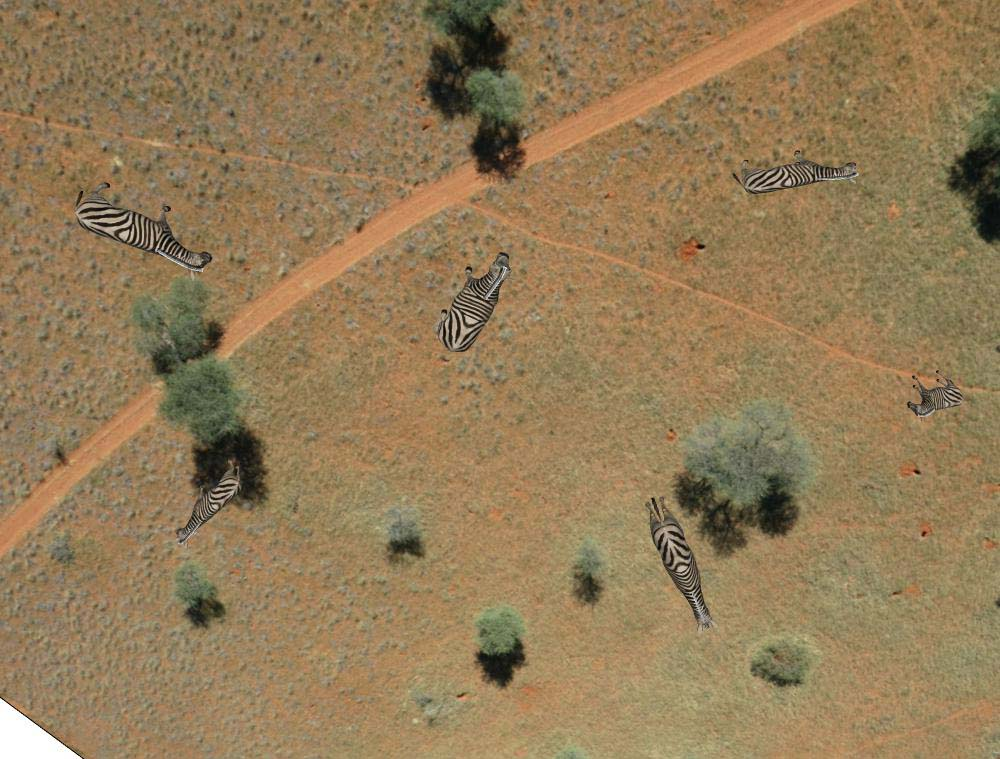zebra: (72, 178, 220, 278), (644, 492, 720, 634), (439, 246, 507, 358), (731, 154, 867, 200), (175, 456, 239, 550), (906, 369, 966, 418)
